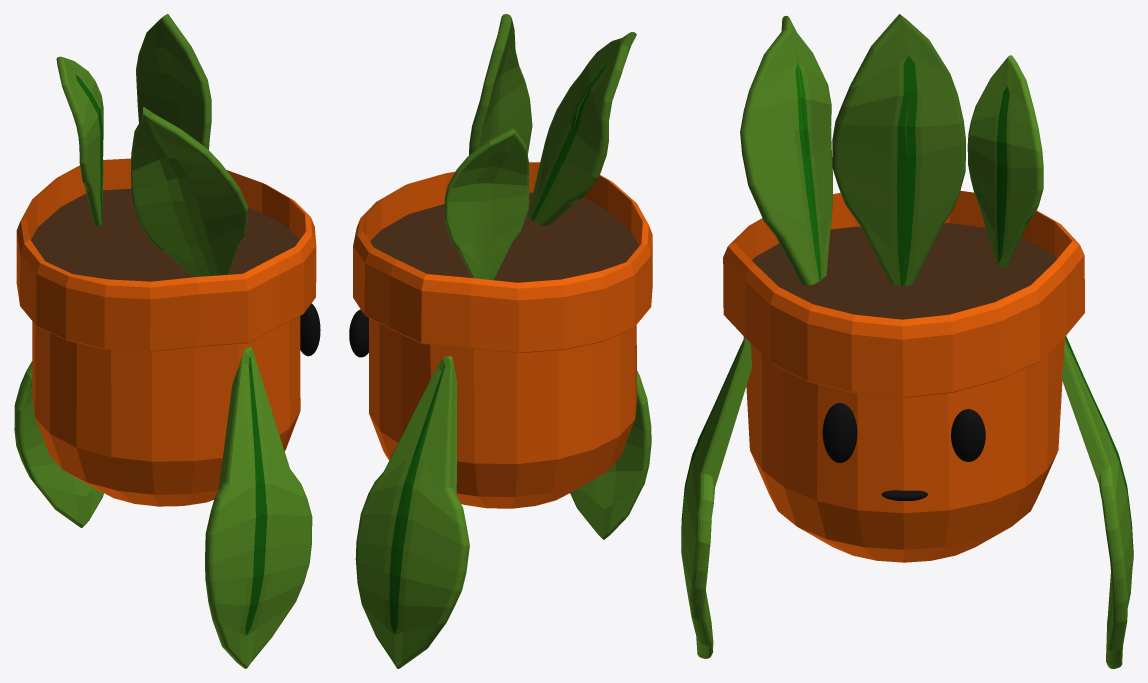
The model's file is macetonio 2 mueve.fbx.
The picture shows the model from 3 angles, left to right: view 1: azimuth 30°, elevation 25°; view 2: azimuth 150°, elevation 25°; view 3: azimuth 270°, elevation 25°; orthographic projection. The views are drawn at different scales.
Parts seen in each view (by area): view 1: Sphere.002; view 2: Sphere.002; view 3: Sphere.002.
Boxes of the visible parts, x1,y1,x2,y2 form: Sphere.002: (14,14,320,668); Sphere.002: (349,14,652,668); Sphere.002: (681,14,1133,668).
Size of the model in its own units: 312 by 669 by 422.
4 materials, 4 textured.
